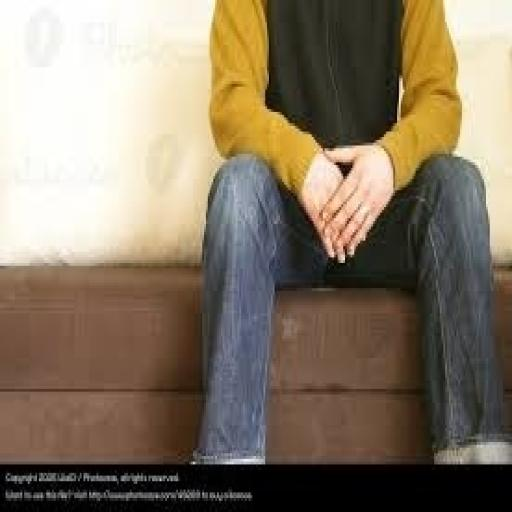sitting: (187, 0, 510, 464)
